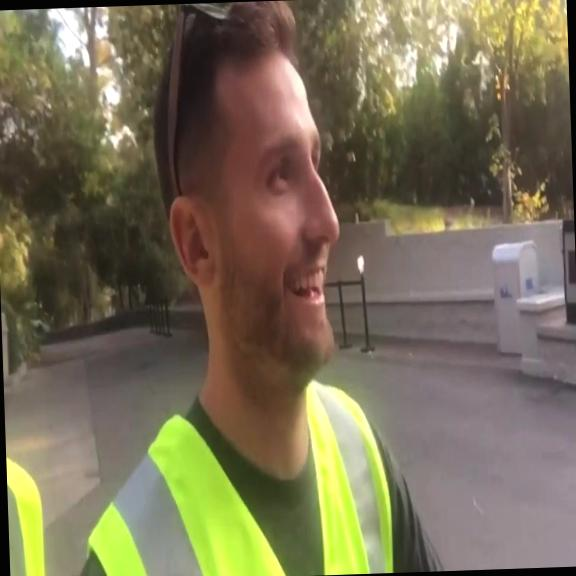safety_vest: (74, 372, 395, 576), (5, 442, 48, 576)
